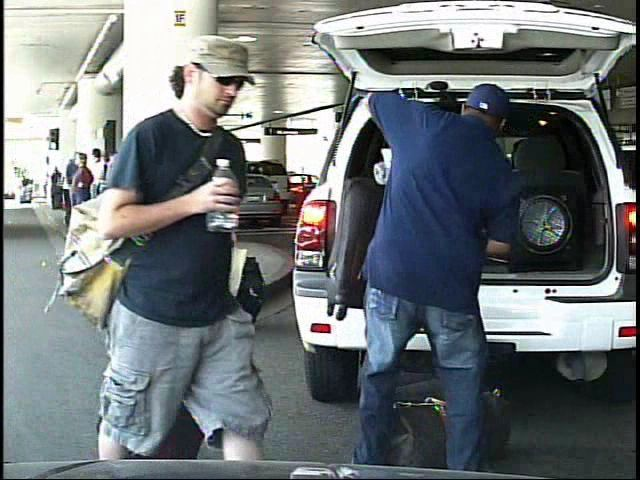person: (336, 51, 537, 479), (93, 22, 277, 480), (135, 124, 251, 347), (14, 174, 24, 205)
